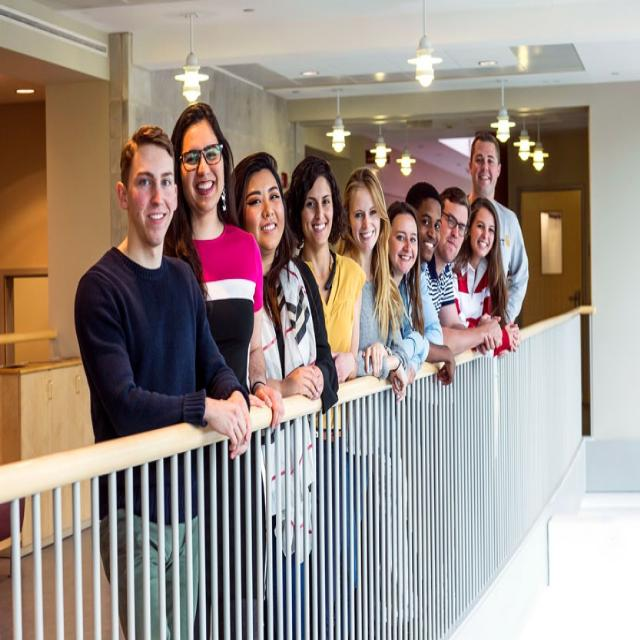body: (71, 120, 253, 640), (163, 99, 286, 640), (224, 149, 338, 639), (283, 152, 371, 602), (336, 164, 412, 459), (455, 128, 532, 341), (423, 186, 504, 356), (449, 195, 524, 361), (403, 180, 457, 386), (382, 198, 428, 386)
